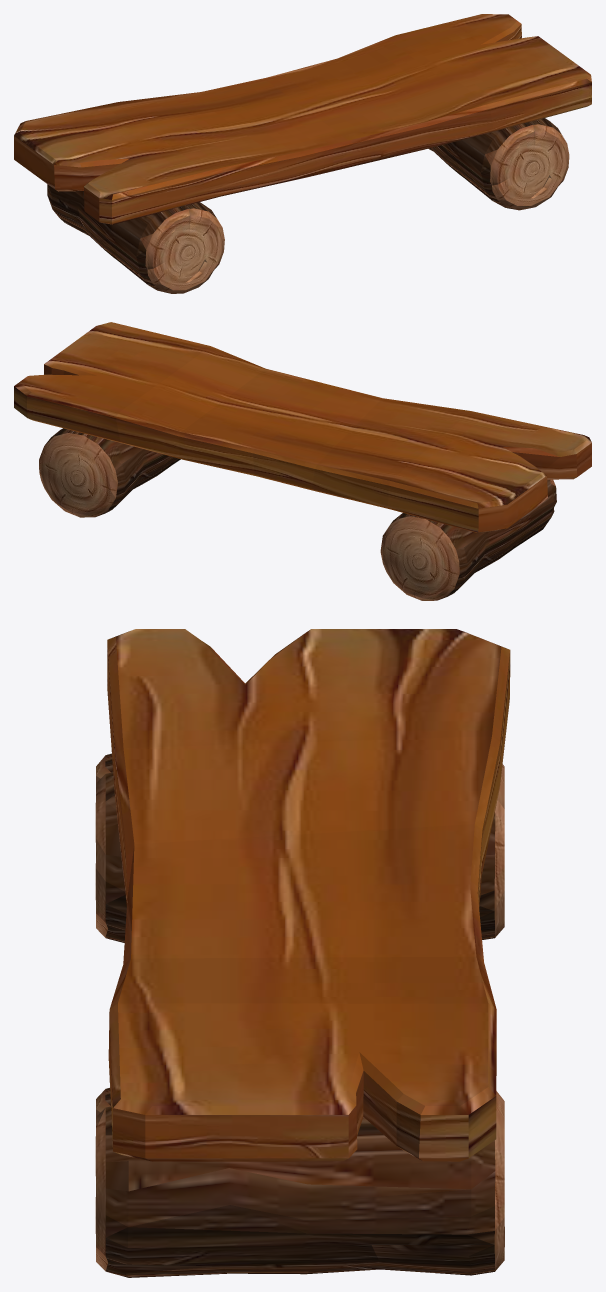
Rendered from log_bench.glb.
3 views of the same model, one above another, from view 1: azimuth 30°, elevation 25°; view 2: azimuth 150°, elevation 25°; view 3: azimuth 270°, elevation 25° (orthographic). The views are drawn at different scales.
Parts seen in each view (by area): view 1: log_bench; view 2: log_bench; view 3: log_bench.
Boxes of the visible parts, <box> form: log_bench: <box>14,14,591,293</box>; log_bench: <box>14,322,591,600</box>; log_bench: <box>95,629,510,1277</box>.
Bounding box in the file's own units: 2.47 × 0.5552 × 0.8999.
2 materials, 2 textured.
